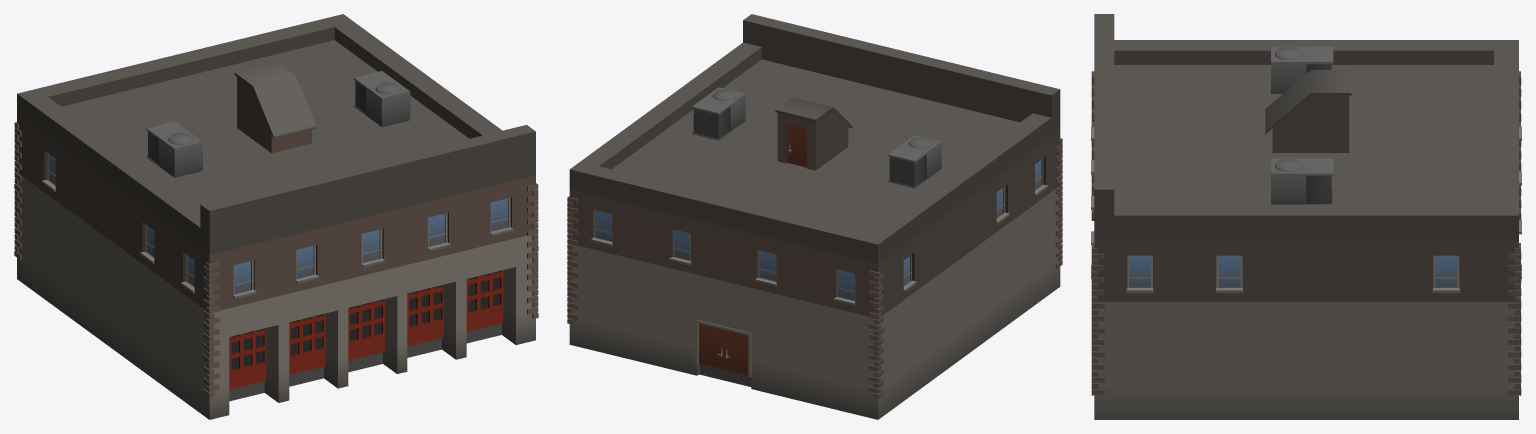
Rendered from buildings-business-firestation_v1.glb.
3 views of the same model, side by side, from view 1: azimuth 30°, elevation 25°; view 2: azimuth 150°, elevation 25°; view 3: azimuth 270°, elevation 25° (orthographic). The views are drawn at different scales.
Parts seen in each view (by area): view 1: FireStation_base, FireStation_windowRefl; view 2: FireStation_base, FireStation_windowRefl; view 3: FireStation_base, FireStation_windowRefl.
Part boxes in pixels (left/top/right/bottom): FireStation_base: left=14, top=14, right=538, bottom=419; FireStation_windowRefl: left=49, top=154, right=507, bottom=293; FireStation_base: left=567, top=14, right=1062, bottom=419; FireStation_windowRefl: left=596, top=160, right=1041, bottom=300; FireStation_base: left=1091, top=14, right=1521, bottom=419; FireStation_windowRefl: left=1129, top=255, right=1457, bottom=287.
Size of the model in its own units: 23.52 by 15.53 by 24.15.
